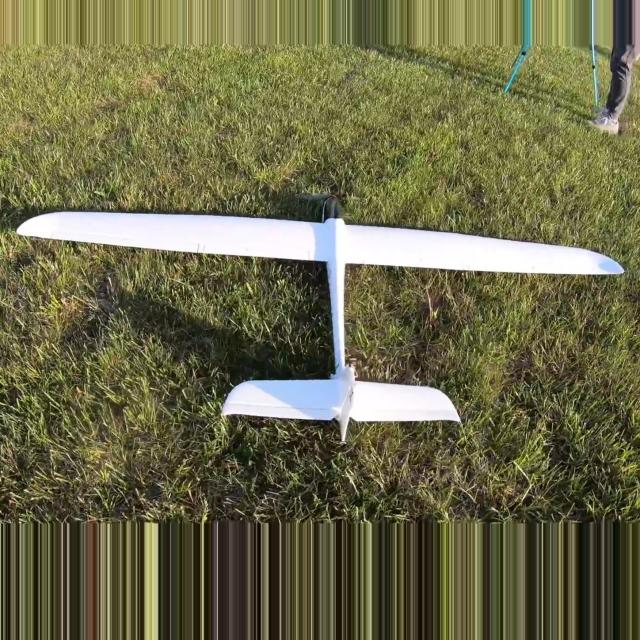iha: (13, 191, 627, 449)
